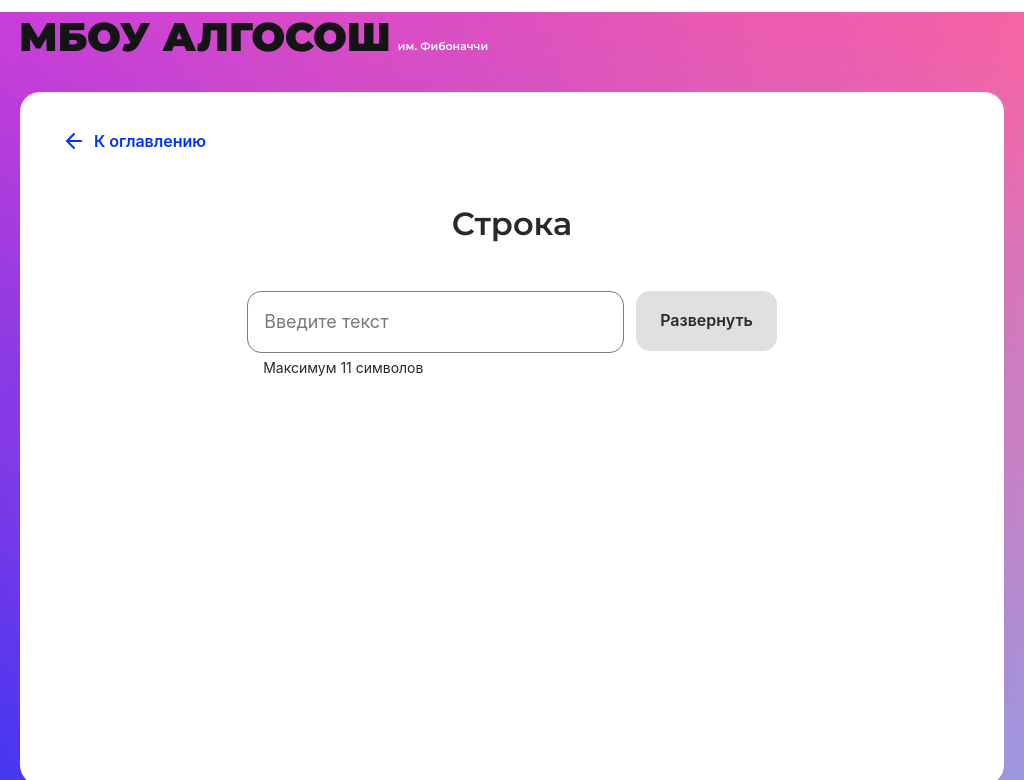
Test case: string tests › the string unfolds correctly, a step-by-step check of the animation for the correctness of the operation performed and the correctness of styles
In the field with test id "string-input": x=436, y=322 [247,291,624,353], type "qwer"
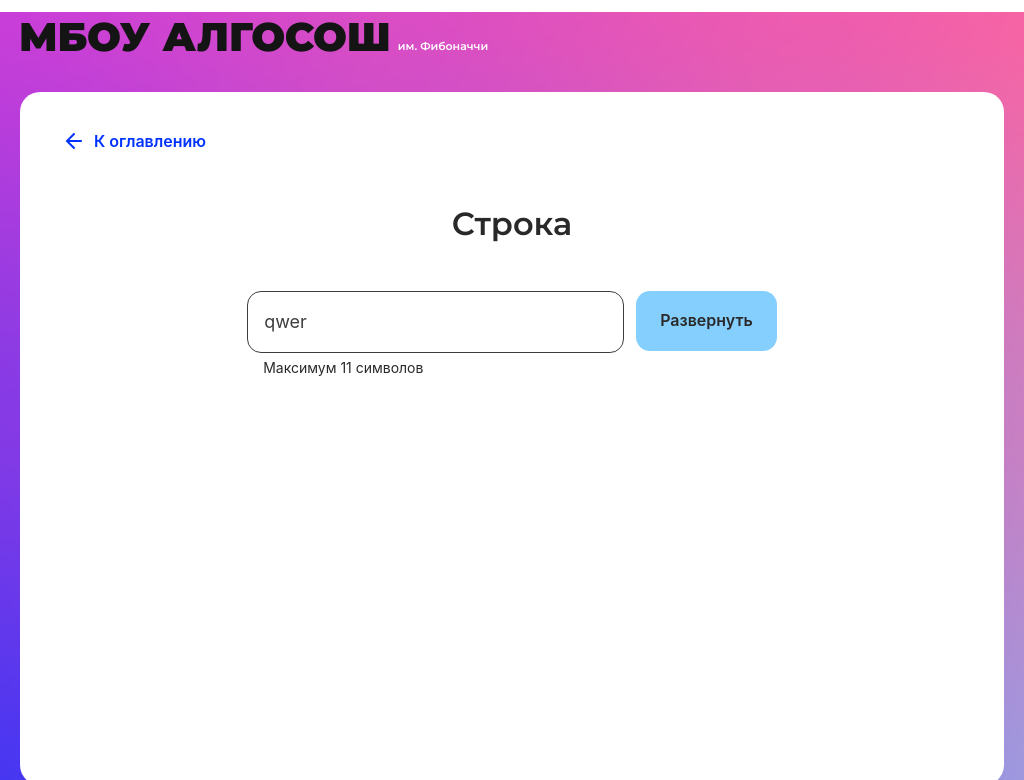
Expected: the element with test id "string-submit-btn" is enabled
Click the button with test id "string-submit-btn": x=707, y=321 [636,291,777,351]
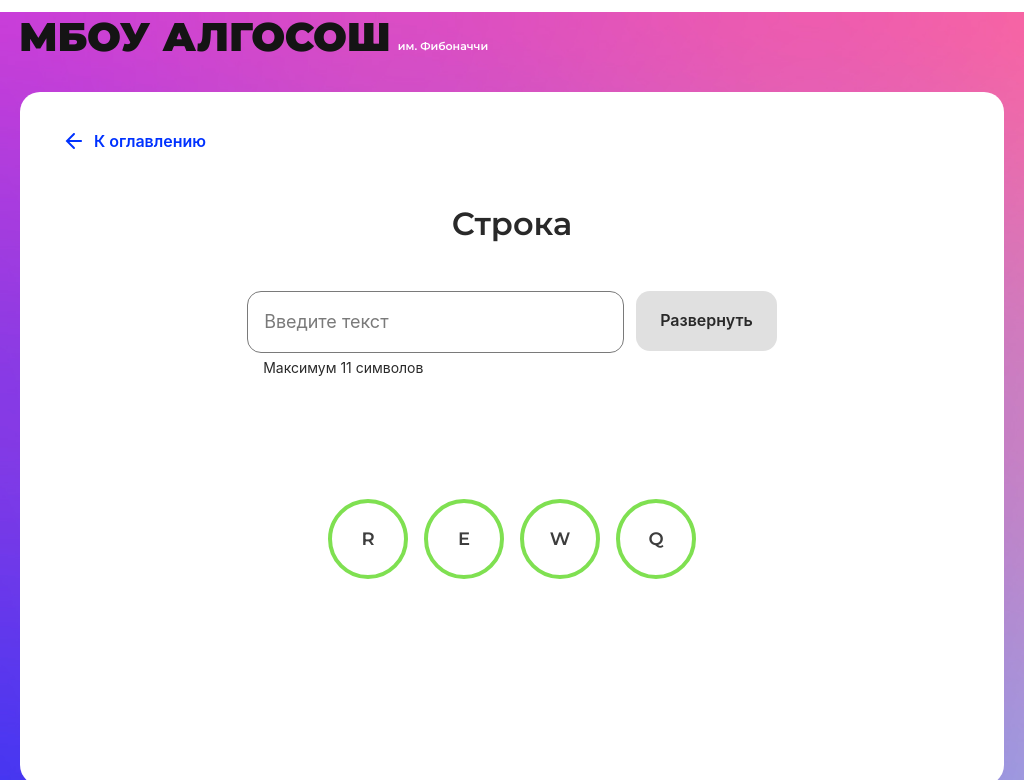
Expected: the element with test id "circle" reads "R", [328,499,408,579]
Expected: the element with test id "circle" reads "Q", [616,499,696,579]
Expected: the element with test id "circle" reads "E", [424,499,504,579]
